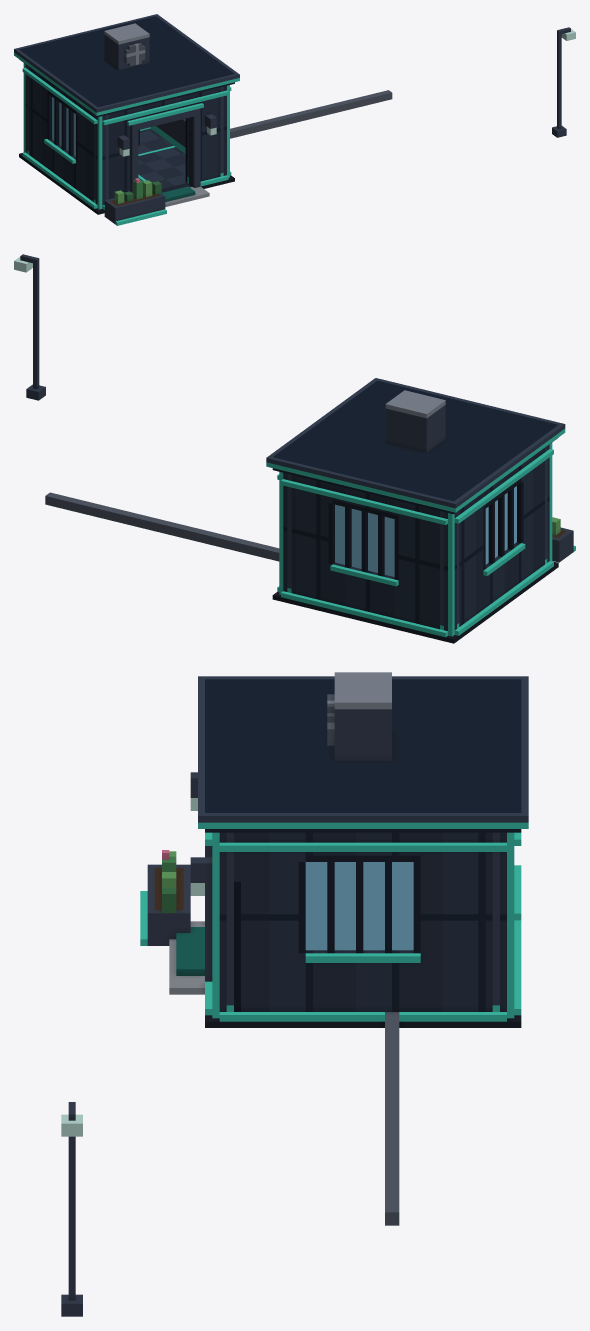
Rendered from antenna_e4_l1.glb.
3 renders of one model, top to bottom at view 1: azimuth 30°, elevation 25°; view 2: azimuth 150°, elevation 25°; view 3: azimuth 270°, elevation 25°, orthographic. The views are drawn at different scales.
Visible parts, largest first — view 1: CutRoof, Base, CutPZ, CutNX, CutNZ; view 2: CutRoof, Base, CutNZ, CutNX, CutPZ; view 3: CutRoof, Base, CutPX, CutPZ, CutNZ.
Boxes of the visible parts, x1,y1,x2,y2 form: CutRoof: (14, 14, 239, 116); Base: (19, 27, 575, 225); CutPZ: (94, 85, 229, 179); CutNX: (22, 67, 97, 175); CutNZ: (23, 63, 29, 128); CutRoof: (266, 378, 565, 514); Base: (14, 254, 575, 643); CutNZ: (279, 472, 459, 597); CutNX: (454, 448, 553, 592); CutPZ: (545, 443, 552, 529); CutRoof: (198, 672, 528, 832); Base: (61, 850, 521, 1316); CutPX: (219, 832, 506, 962); CutPZ: (190, 772, 240, 959); CutNZ: (492, 832, 521, 959).
Bounding box in the file's own units: 14.3 × 4.2 × 6.5.
